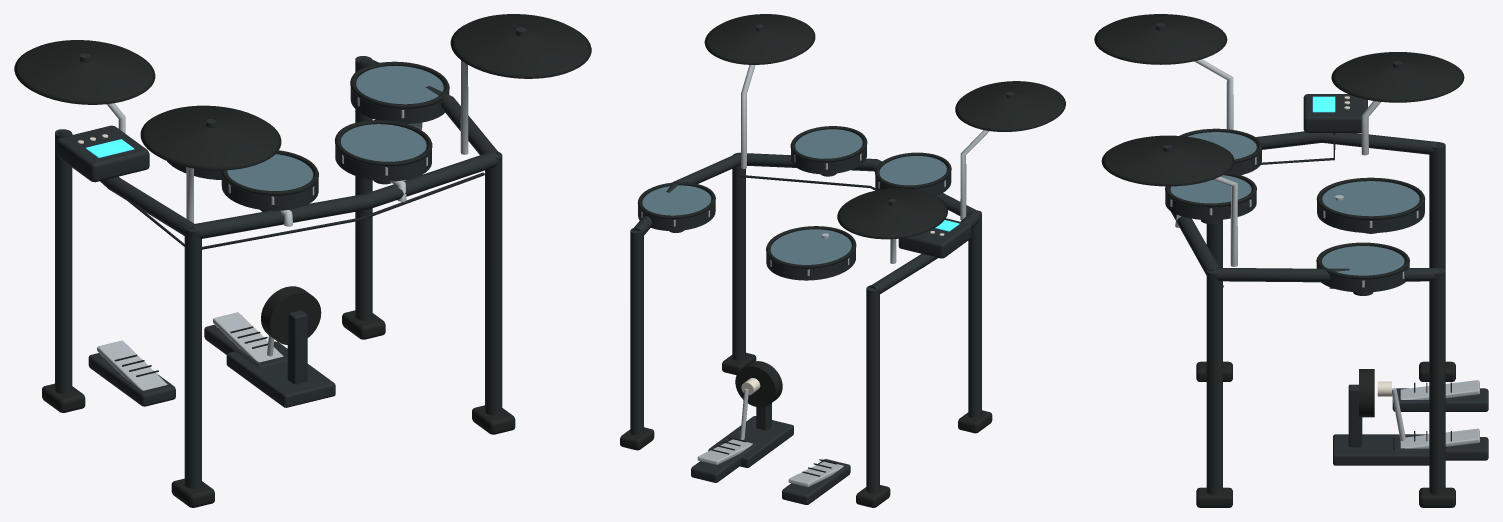
File: electronic-drum-kit.glb
3 views of the same model, side by side, from view 1: azimuth 30°, elevation 25°; view 2: azimuth 150°, elevation 25°; view 3: azimuth 270°, elevation 25° (orthographic). The views are drawn at different scales.
Parts seen in each view (by area): view 1: electronic-drum-kit authored assembly; view 2: electronic-drum-kit authored assembly; view 3: electronic-drum-kit authored assembly.
Part boxes in pixels (bbox=[...]): electronic-drum-kit authored assembly: bbox=[14, 14, 591, 507]; electronic-drum-kit authored assembly: bbox=[620, 14, 1065, 507]; electronic-drum-kit authored assembly: bbox=[1094, 14, 1488, 507].
Bounding box in the file's own units: 1.25 × 1.15 × 1.15.
